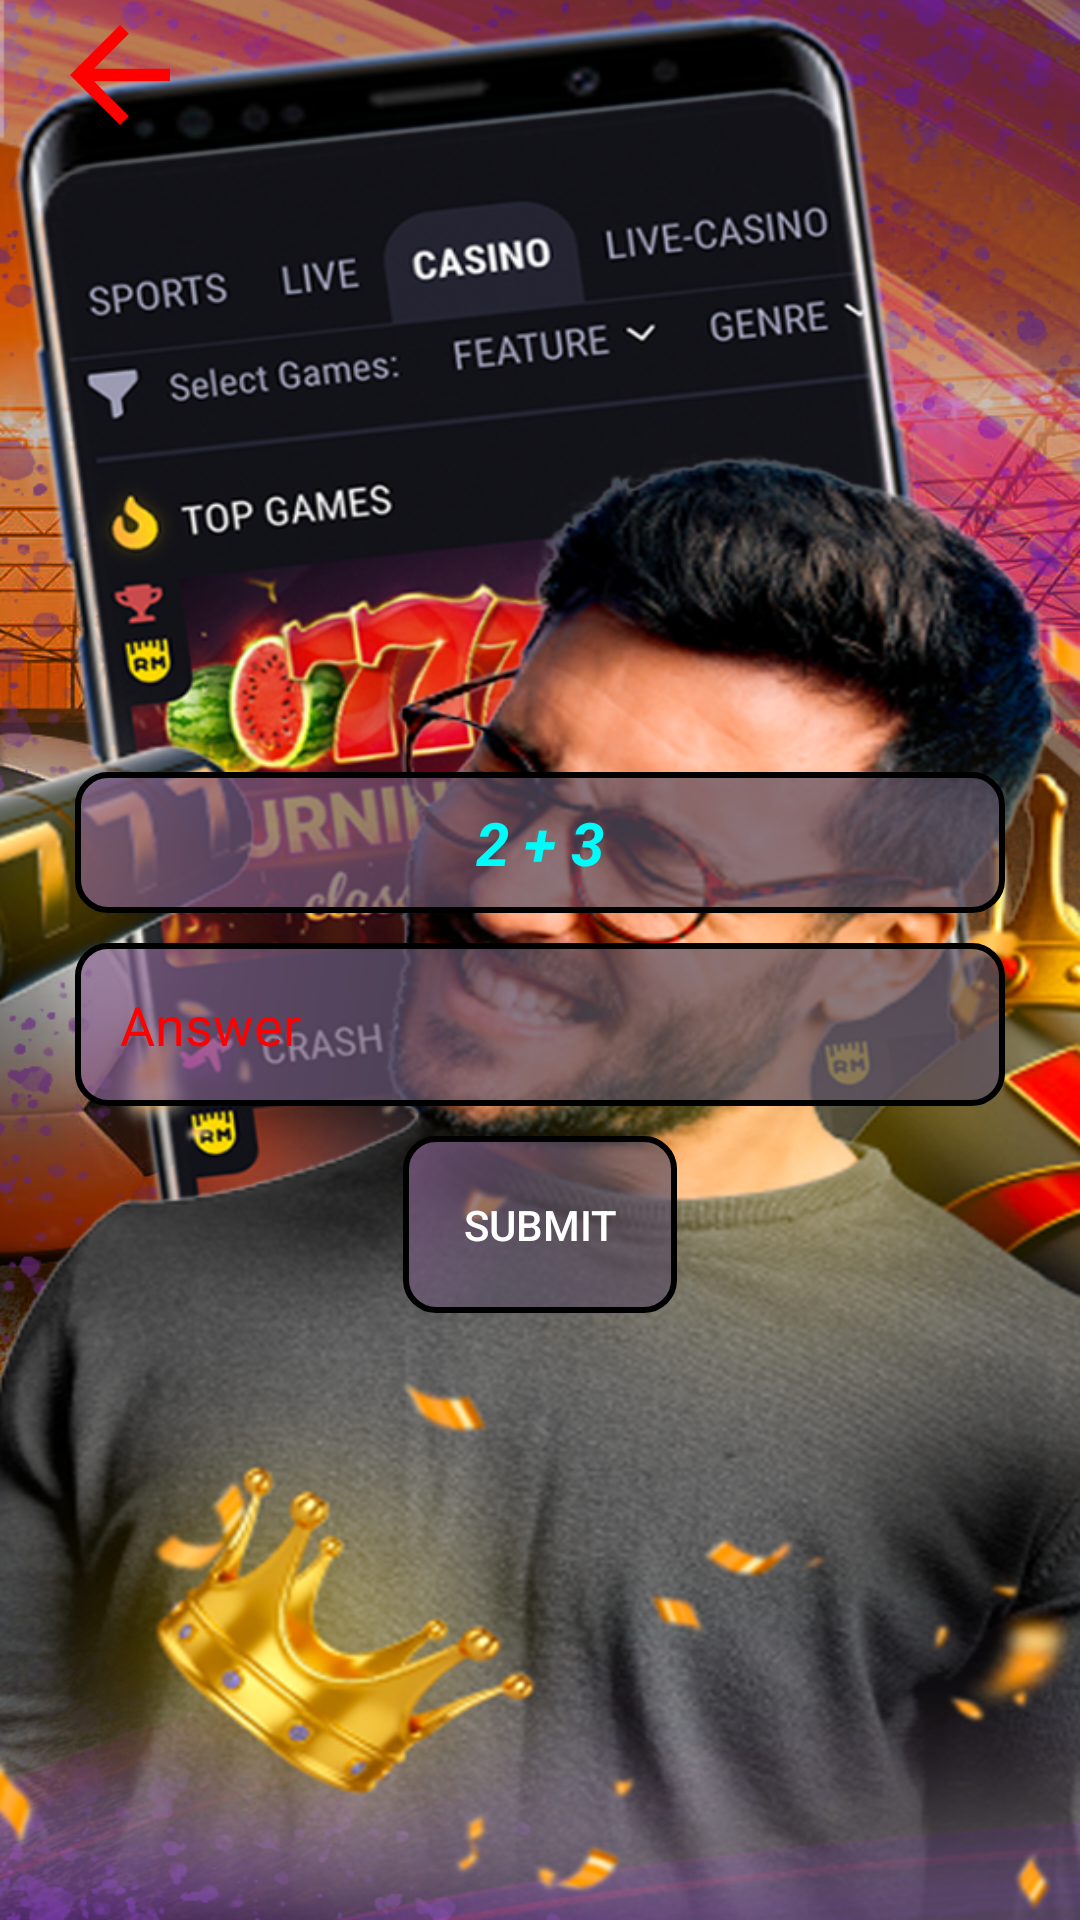

Named icons in this screenshot (1080*1920) and their centers, (x,y):
nazad: (120,75)
